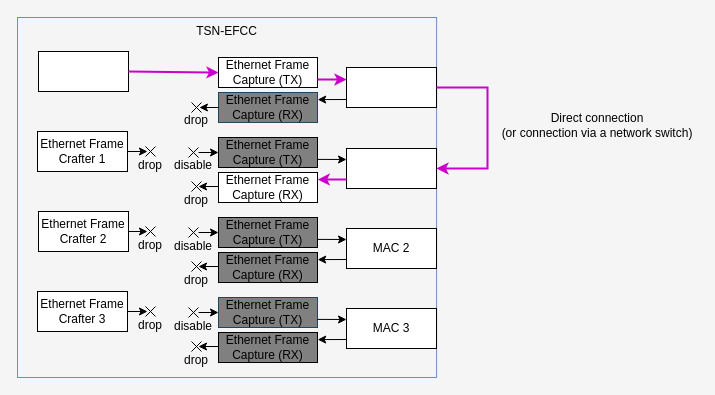
The diagram is 715 pixels wide and 395 high, and some of its shapes have lost their labels. The centre of each missing label's shape, as x and y in pixels:
Ethernet Frame Crafter 0: point (83, 71)
MAC 0: point (391, 87)
MAC 1: point (391, 168)
